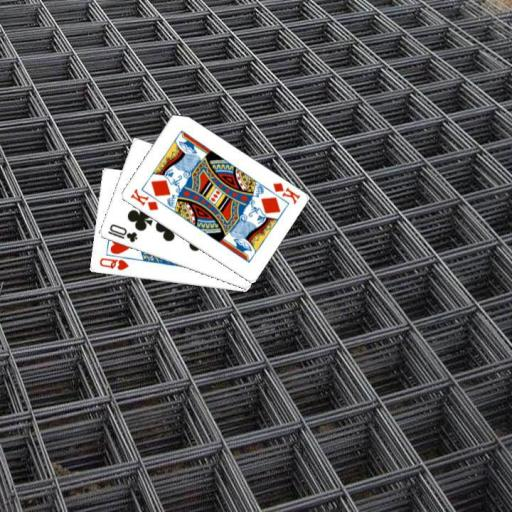10C: (105, 221, 139, 244)
KD: (270, 179, 302, 206), (127, 186, 159, 212)
QH: (96, 255, 129, 272)
